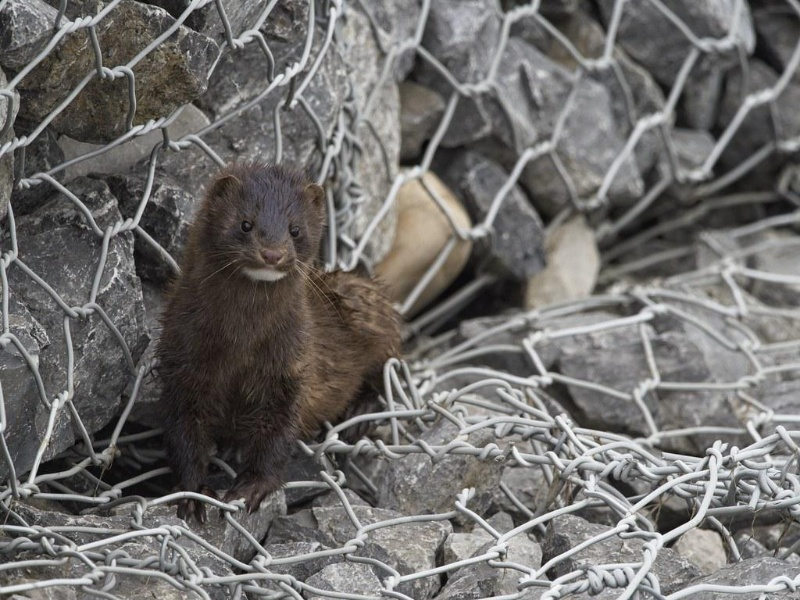minkish: (154, 156, 404, 528)
